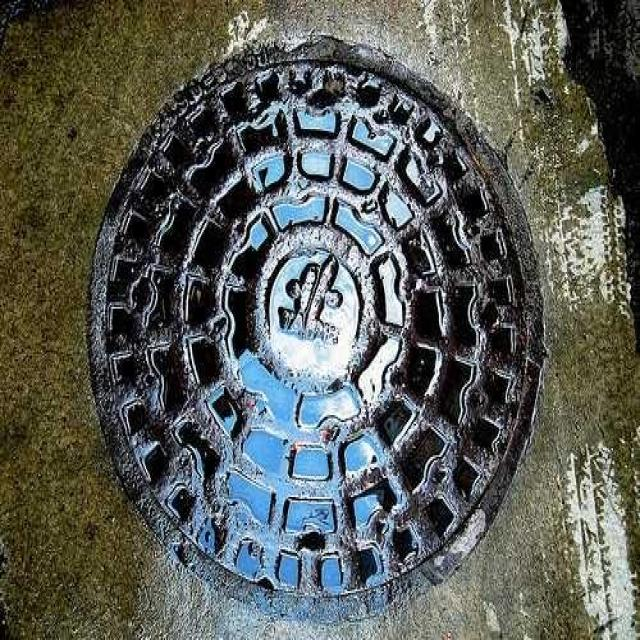manhole: (86, 37, 549, 623)
